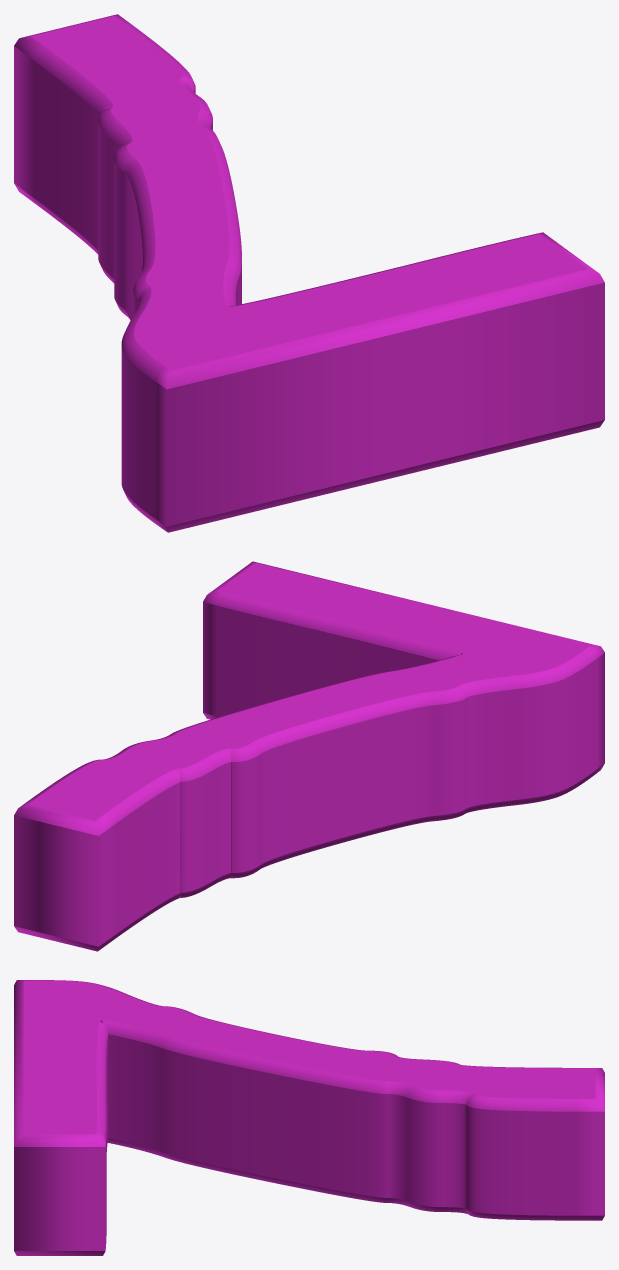
File: Blocky_Number_7.fbx
3 renders of one model, top to bottom at view 1: azimuth 30°, elevation 25°; view 2: azimuth 150°, elevation 25°; view 3: azimuth 270°, elevation 25°, orthographic. The views are drawn at different scales.
Visible parts, largest first — view 1: BlockyNumber_7; view 2: BlockyNumber_7; view 3: BlockyNumber_7.
Part boxes in pixels (x1,y1,x2,y2): BlockyNumber_7: (14, 14, 604, 532); BlockyNumber_7: (14, 561, 604, 951); BlockyNumber_7: (14, 980, 604, 1255).
Bounding box in the file's own units: 0.4009 × 0.14 × 0.618.
